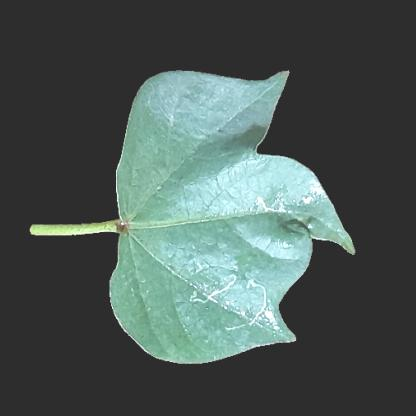healthy: (127, 92, 260, 205), (131, 242, 259, 342), (254, 181, 320, 257)
